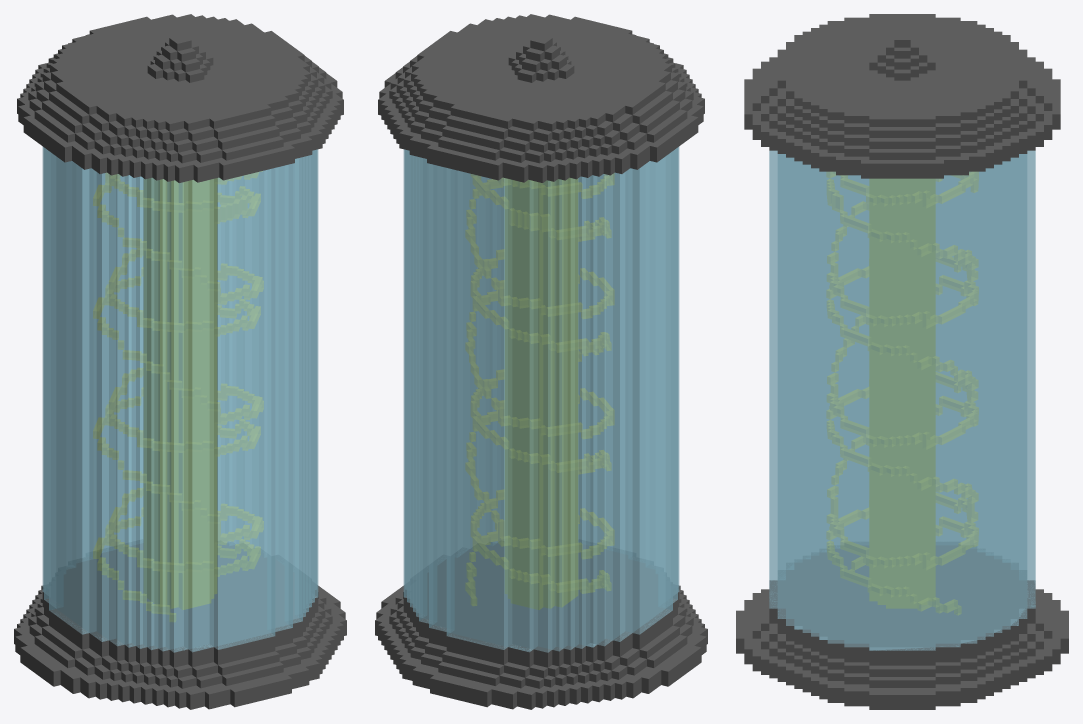
File: ElectricalSource.fbx
3 renders of one model, left to right at view 1: azimuth 30°, elevation 25°; view 2: azimuth 150°, elevation 25°; view 3: azimuth 270°, elevation 25°, orthographic.
Parts seen in each view (by area): view 1: ObjObject.003, ObjObject.002, ObjObject.001, ObjObject.004, ObjObject; view 2: ObjObject.003, ObjObject.002, ObjObject.001, ObjObject.004, ObjObject; view 3: ObjObject.003, ObjObject.002, ObjObject.001, ObjObject, ObjObject.004.
Part boxes in pixels (bbox=[...]): ObjObject.003: bbox=[42, 146, 318, 652]; ObjObject.002: bbox=[14, 14, 346, 709]; ObjObject.001: bbox=[144, 178, 216, 609]; ObjObject.004: bbox=[107, 173, 260, 576]; ObjObject: bbox=[93, 172, 263, 621]; ObjObject.003: bbox=[403, 146, 679, 652]; ObjObject.002: bbox=[375, 14, 707, 709]; ObjObject.001: bbox=[505, 178, 577, 609]; ObjObject.004: bbox=[466, 174, 613, 605]; ObjObject: bbox=[471, 174, 610, 593]; ObjObject.003: bbox=[769, 150, 1035, 650]; ObjObject.002: bbox=[736, 14, 1068, 709]; ObjObject.001: bbox=[869, 179, 935, 608]; ObjObject: bbox=[827, 172, 978, 571]; ObjObject.004: bbox=[827, 172, 977, 614].
Bounding box in the file's own units: 400 × 800 × 400.
